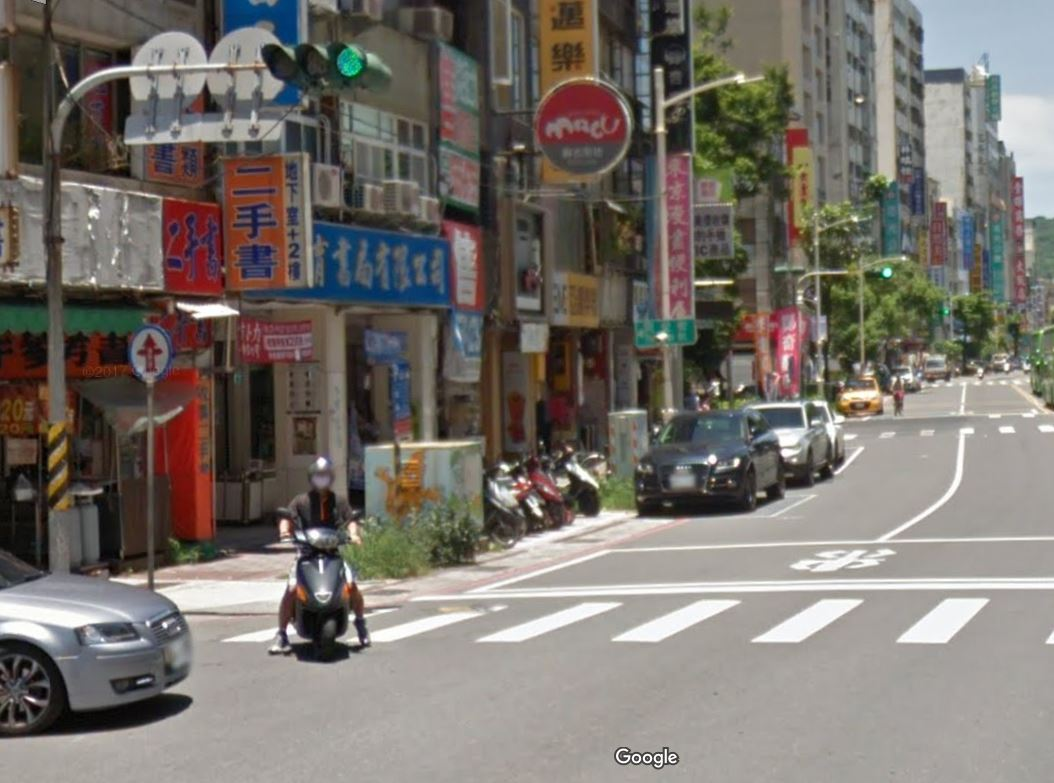Traffic_light_green: (261, 34, 397, 96)
car: (634, 399, 788, 521)
motorcycle: (269, 493, 377, 662)
